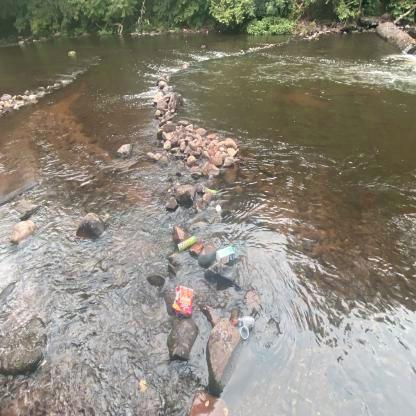Metal: (176, 235, 198, 254)
Plastic: (233, 315, 256, 333)
